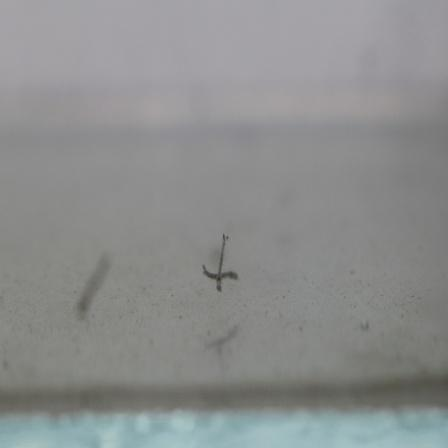Jentik-Nyamuk: (196, 230, 246, 298)
